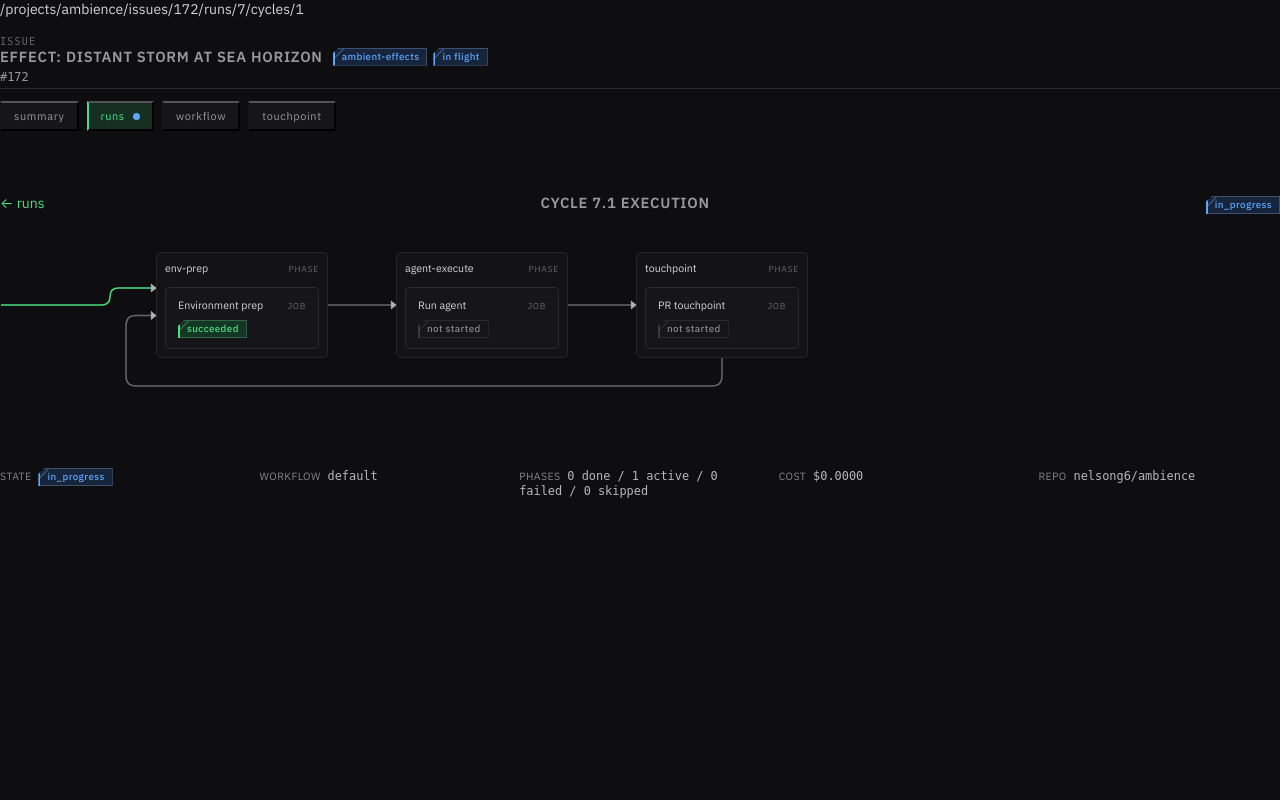
Test: IssueDetailView run execution graph › surfaces completed job cost in the selected job log section
The image size is (1280, 800).
Expected: the text "$2.3456" is not shown
Click the button "Environment prep job succeeded".
click(242, 318)  # box [165,287,319,349]
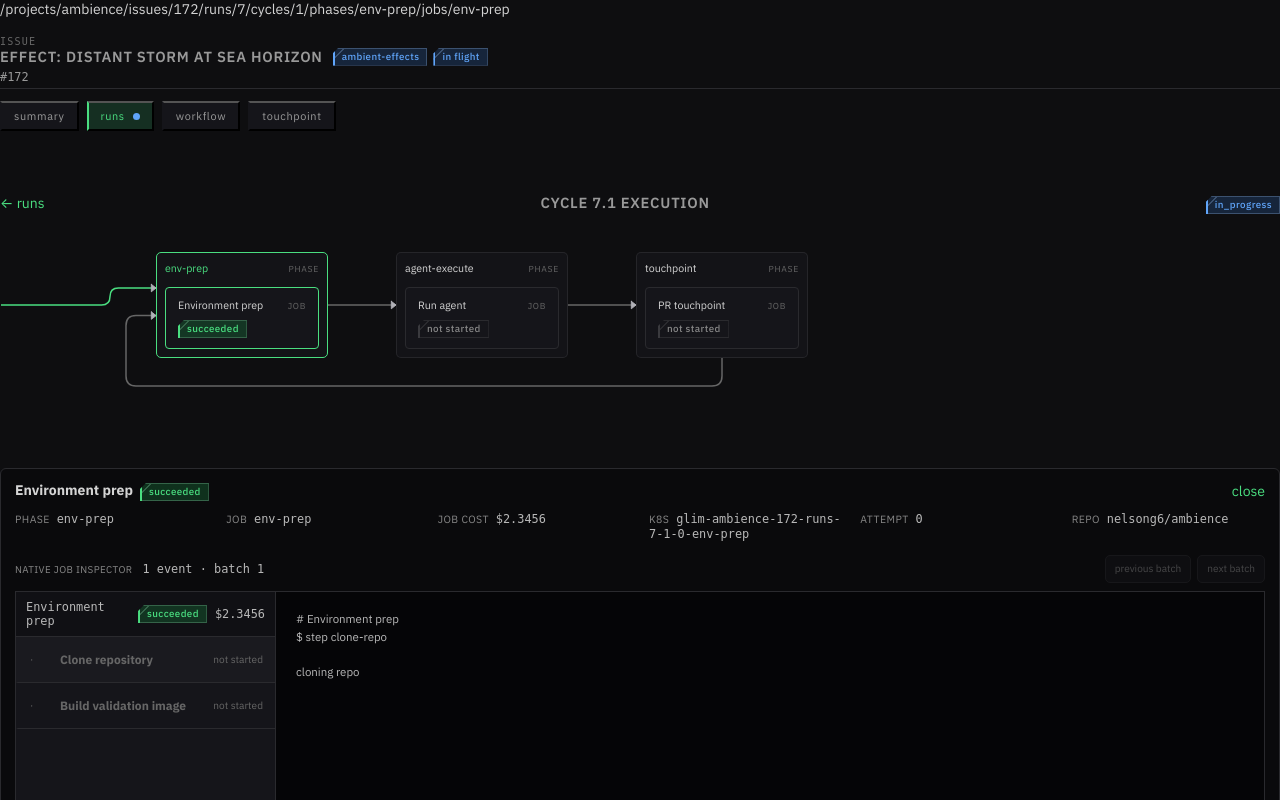
Expected: the text "job cost" is shown, [438,512,489,526]
